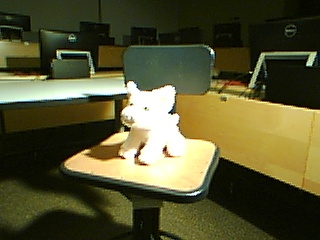piggy: (117, 80, 187, 167)
